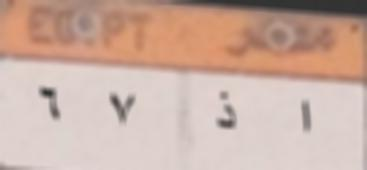6: (30, 80, 66, 128)
7: (99, 87, 142, 130)
alif: (288, 86, 326, 136)
zaal: (205, 86, 242, 138)
